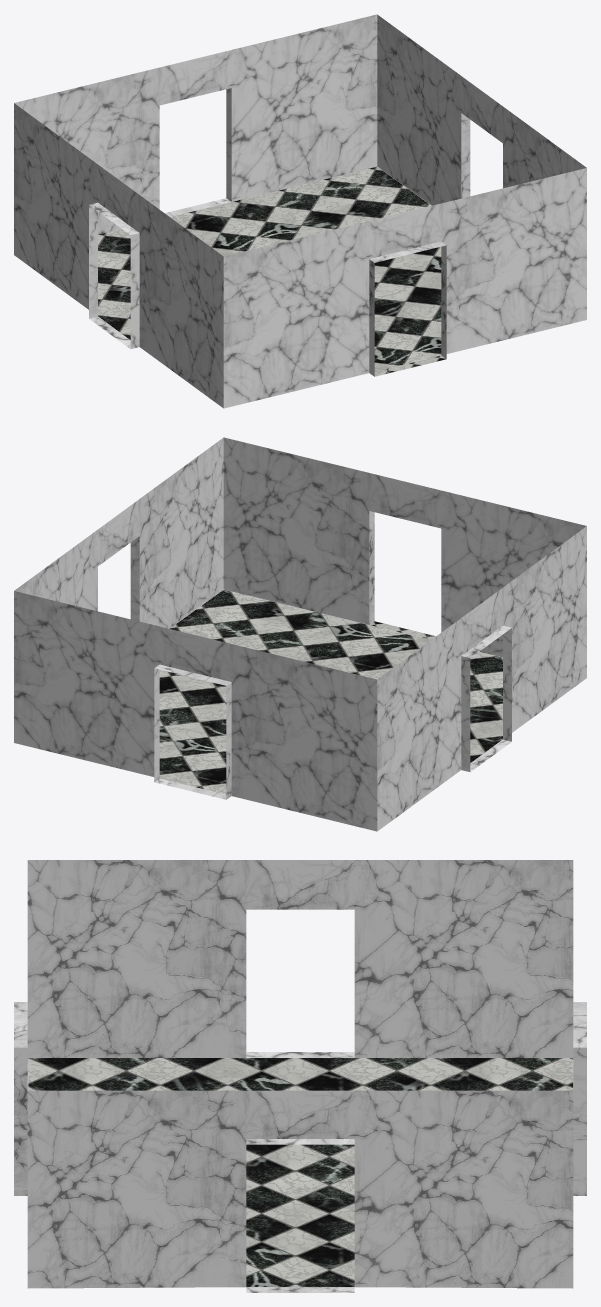
Rendered from room4.fbx.
3 renders of one model, top to bottom at view 1: azimuth 30°, elevation 25°; view 2: azimuth 150°, elevation 25°; view 3: azimuth 270°, elevation 25°, orthographic. The views are drawn at different scales.
Parts seen in each view (by area): view 1: Room4; view 2: Room4; view 3: Room4.
Boxes of the visible parts, x1,y1,x2,y2 form: Room4: (14,14,586,408); Room4: (14,437,586,831); Room4: (14,860,586,1292).
Size of the model in its own units: 640 by 244 by 640.
